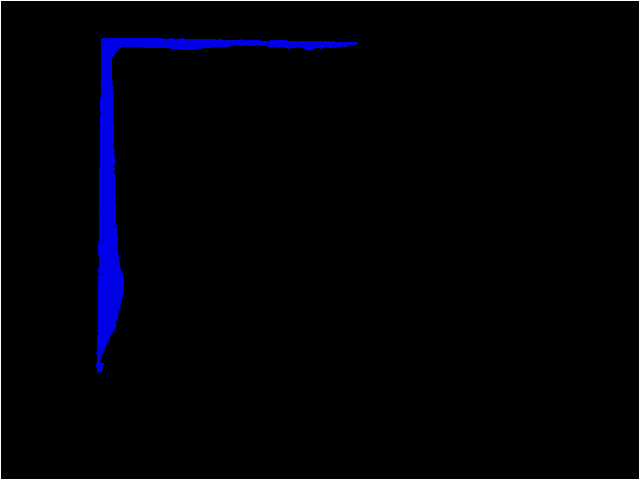defect: (96, 34, 358, 375)
